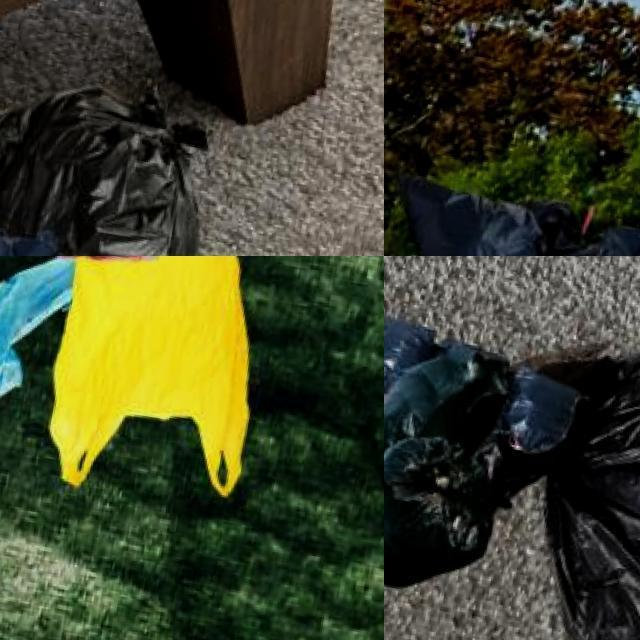waste: (38, 256, 287, 510), (0, 62, 225, 256), (534, 322, 640, 640), (384, 428, 502, 578), (384, 318, 508, 448), (385, 176, 558, 256), (498, 366, 587, 468)
